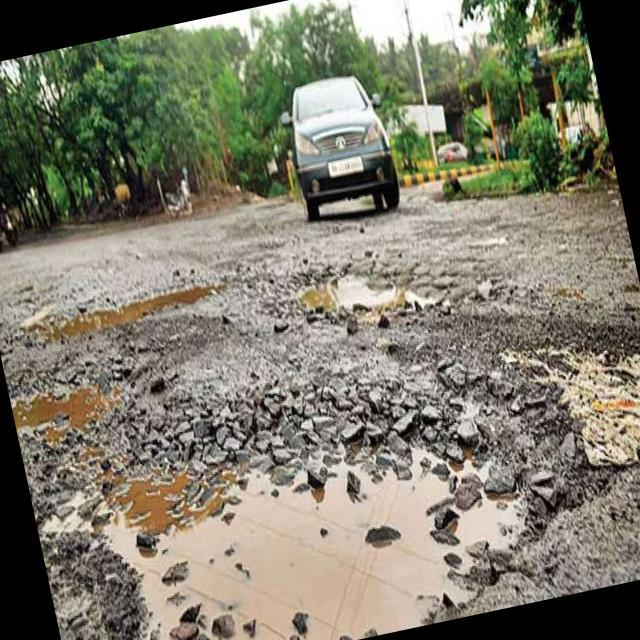Pothole: (216, 385, 477, 640), (56, 270, 210, 350), (298, 249, 417, 340), (16, 362, 128, 448)
